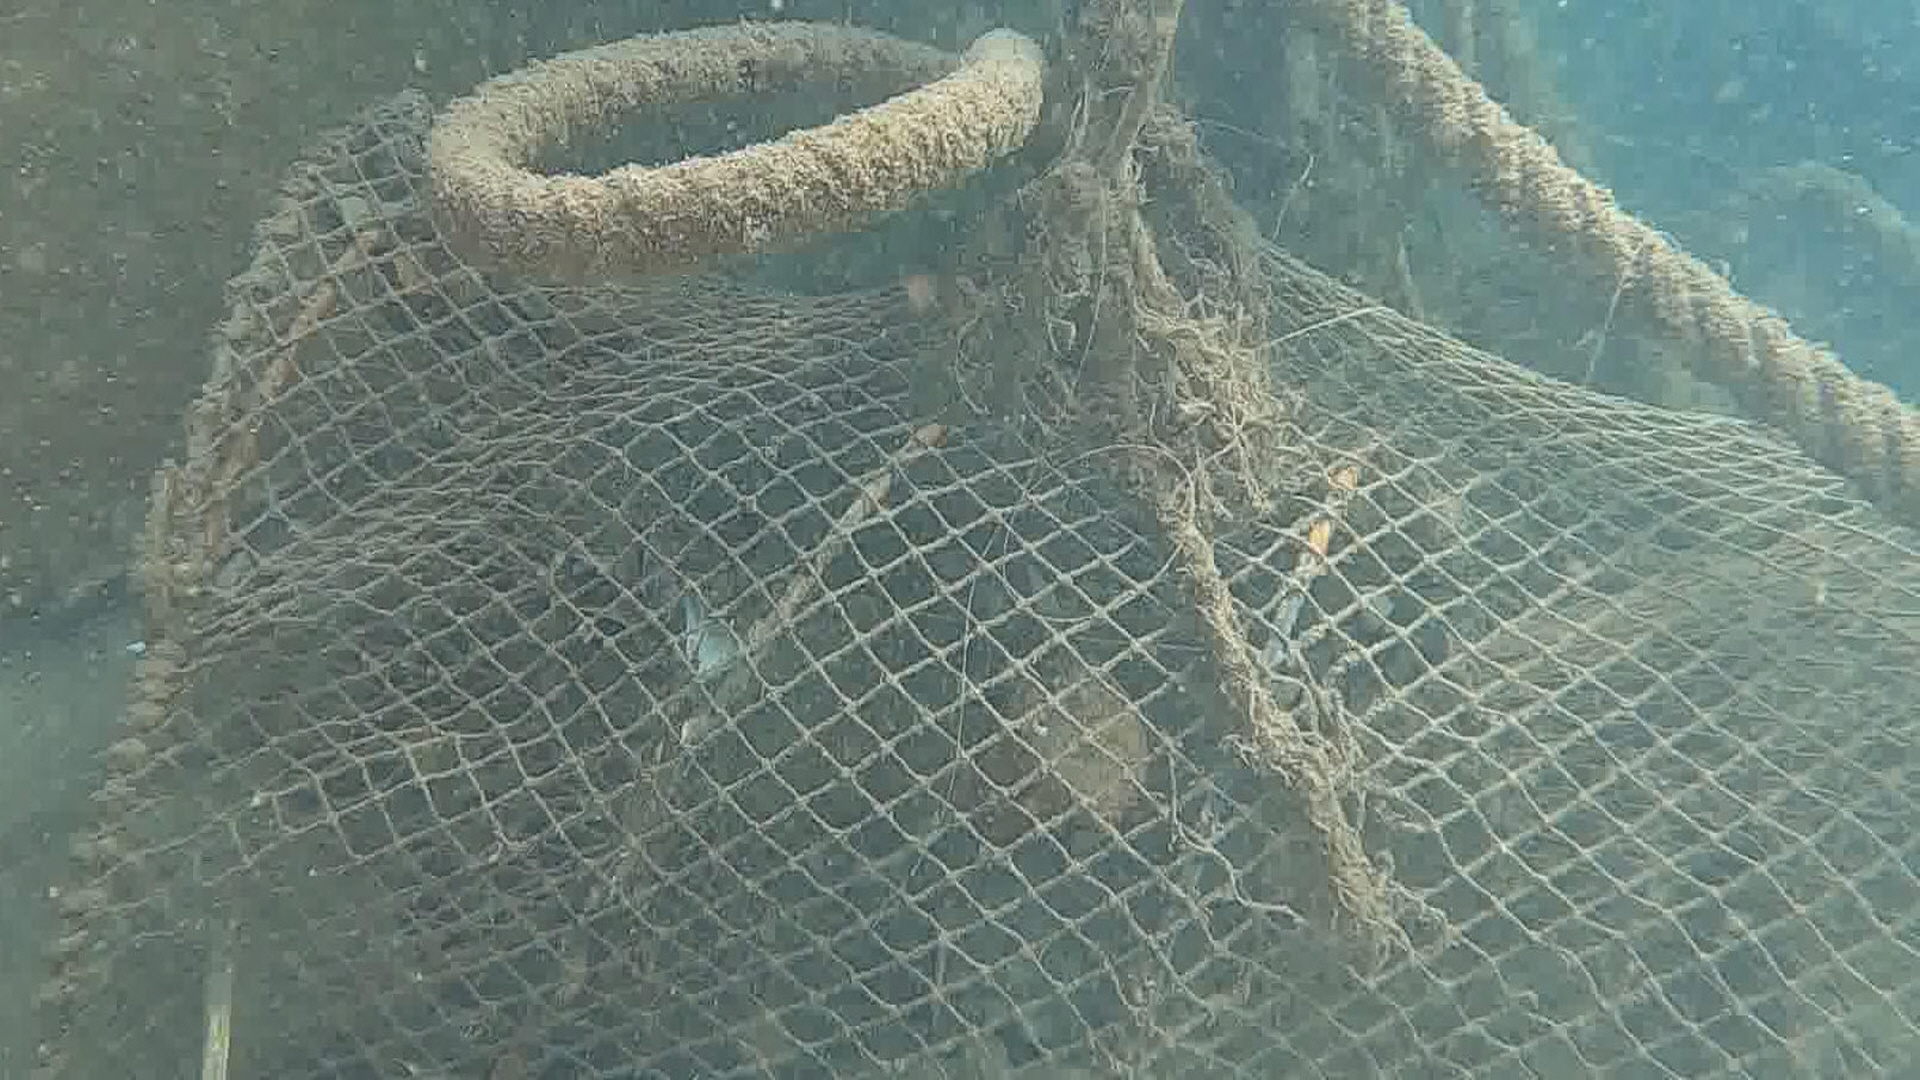rope: (1296, 1, 1920, 537), (425, 22, 1046, 264)
spring fish trap: (22, 90, 1920, 1080)
